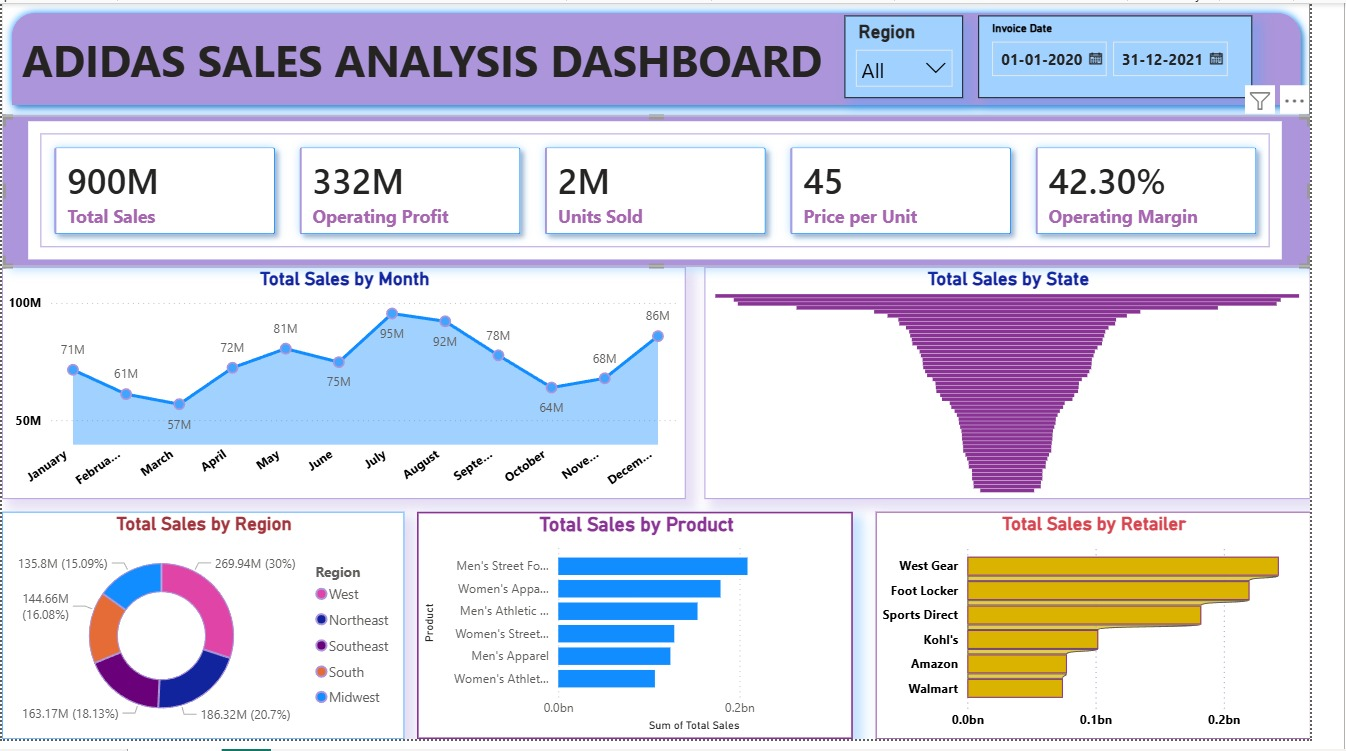

What the dashboard file says about the page in this screenshot:
{"tool":"powerbi","page":{"name":"Page 1","canvas":[1280,720],"ordinal":0},"visuals":[{"type":"shape","box":[0,0,1280.3,110.1],"z":0},{"type":"textbox","box":[14.7,20.8,827.9,72.1],"z":1000},{"type":"cardVisual","fields":{"Data":["Sum(Data Sales Adidas.Total Sales)","Sum(Data Sales Adidas.Operating Profit)","Sum(Data Sales Adidas.Units Sold)","Avg(Data Sales Adidas.Price per Unit)","Avg(Data Sales Adidas.Operating Margin)"]},"box":[0,110.1,1280.3,148],"z":2000},{"type":"areaChart","title":" Total Sales by Month","fields":{"Category":["Data Sales Adidas.Invoice Date.Variation.Date Hierarchy.Month"],"Y":["Sum(Data Sales Adidas.Total Sales)"]},"box":[0,258,668.9,227.4],"z":3000},{"type":"funnel","title":" Total Sales by State","fields":{"Y":["Sum(Data Sales Adidas.Total Sales)"],"Category":["Data Sales Adidas.State"]},"box":[687.2,258,593.1,227.4],"z":4000},{"type":"donutChart","title":" Total Sales by Region","fields":{"Category":["Data Sales Adidas.Region"],"Y":["Sum(Data Sales Adidas.Total Sales)"]},"box":[0,497.7,393.8,222.6],"z":5000},{"type":"barChart","title":"Total Sales by Product","fields":{"Category":["Data Sales Adidas.Product"],"Y":["Sum(Data Sales Adidas.Total Sales)"]},"box":[406,497.7,426.8,222.6],"z":6000},{"type":"barChart","title":"Total Sales by Retailer","fields":{"Y":["Sum(Data Sales Adidas.Total Sales)"],"Category":["Data Sales Adidas.Retailer"]},"box":[854.8,497.7,425.5,222.6],"z":7000},{"type":"slicer","fields":{"Values":["Data Sales Adidas.Region"]},"box":[824.2,12.2,116.2,80.7],"z":8000},{"type":"slicer","fields":{"Values":["Data Sales Adidas.Invoice Date"]},"box":[955,12.2,267.8,80.7],"z":9000}]}

Visuals, with their boxes in screenshot pixels (x1, y1, x2, y2), scaled from the page's 1280x720 canvas onto the 1346x751 screenshot:
shape: bbox=(0, 0, 1345, 115)
textbox: bbox=(15, 22, 886, 97)
cardVisual - Sum(Data Sales Adidas.Total Sales) x Sum(Data Sales Adidas.Operating Profit): bbox=(0, 115, 1345, 269)
" Total Sales by Month" areaChart: bbox=(0, 269, 703, 506)
" Total Sales by State" funnel: bbox=(723, 269, 1345, 506)
" Total Sales by Region" donutChart: bbox=(0, 519, 414, 750)
"Total Sales by Product" barChart: bbox=(427, 519, 876, 750)
"Total Sales by Retailer" barChart: bbox=(899, 519, 1345, 750)
slicer - Data Sales Adidas.Region: bbox=(867, 13, 989, 97)
slicer - Data Sales Adidas.Invoice Date: bbox=(1004, 13, 1286, 97)
